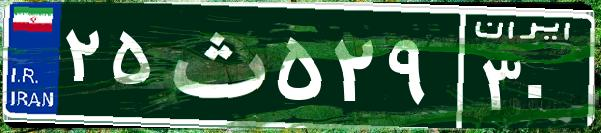0: (525, 38, 570, 115)
2: (330, 28, 385, 110), (57, 26, 110, 107)
3: (475, 38, 525, 113)
5: (273, 28, 330, 110), (110, 28, 158, 105)
9: (385, 28, 445, 110)
ث: (158, 15, 273, 115)
